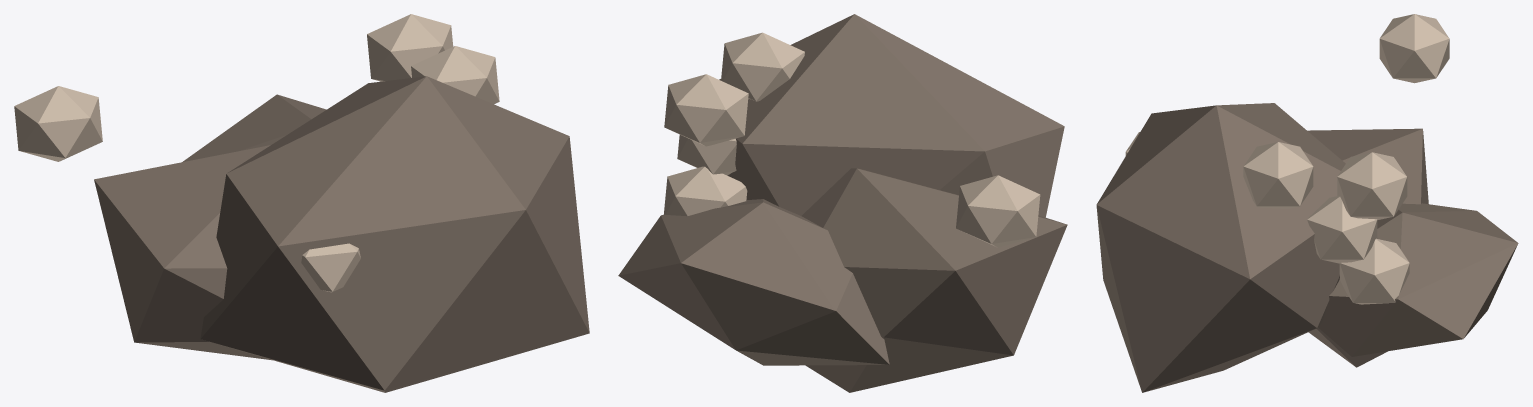
File: res_ferrite.glb
3 renders of one model, left to right at view 1: azimuth 30°, elevation 25°; view 2: azimuth 150°, elevation 25°; view 3: azimuth 270°, elevation 25°, orthographic. The views are drawn at different scales.
Visible parts, largest first — view 1: Rock2, Rock1, Vein1, Vein0, Rock0, Vein4, Vein3; view 2: Rock2, Rock1, Rock0, Vein1, Vein0, Vein4, Vein5, Vein2; view 3: Rock2, Rock0, Rock1, Vein1, Vein0, Vein4, Vein5, Vein2.
Boxes of the visible parts, x1,y1,x2,y2 form: Rock2: (200, 76, 589, 392); Rock1: (94, 145, 272, 360); Vein1: (14, 86, 102, 161); Vein0: (367, 14, 453, 81); Rock0: (182, 94, 326, 162); Vein4: (411, 46, 499, 104); Vein3: (301, 243, 360, 292); Rock2: (719, 14, 1064, 217); Rock1: (801, 168, 1067, 392); Rock0: (618, 199, 889, 365); Vein1: (956, 175, 1040, 247); Vein0: (664, 74, 748, 146); Vein4: (721, 32, 804, 101); Vein5: (664, 166, 747, 216); Vein2: (677, 135, 736, 175); Rock2: (1096, 103, 1345, 392); Rock0: (1318, 203, 1518, 356); Rock1: (1307, 128, 1428, 367); Vein1: (1379, 14, 1449, 83); Vein0: (1337, 152, 1407, 220); Vein4: (1243, 142, 1313, 208); Vein5: (1339, 238, 1409, 304); Vein2: (1307, 196, 1377, 263).
Size of the model in its own units: 1.65 by 1.1 by 1.44.
